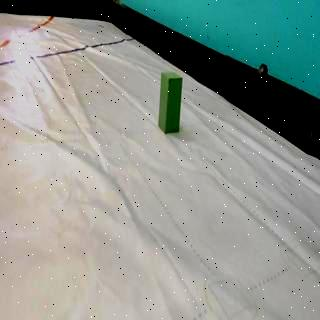greenbox: (159, 70, 183, 134)
